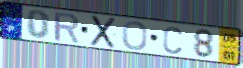0: (25, 8, 51, 40)
8: (192, 28, 215, 59)
C: (162, 25, 184, 55)
O: (121, 20, 149, 51)
R: (52, 11, 81, 45)
X: (89, 14, 118, 50)
